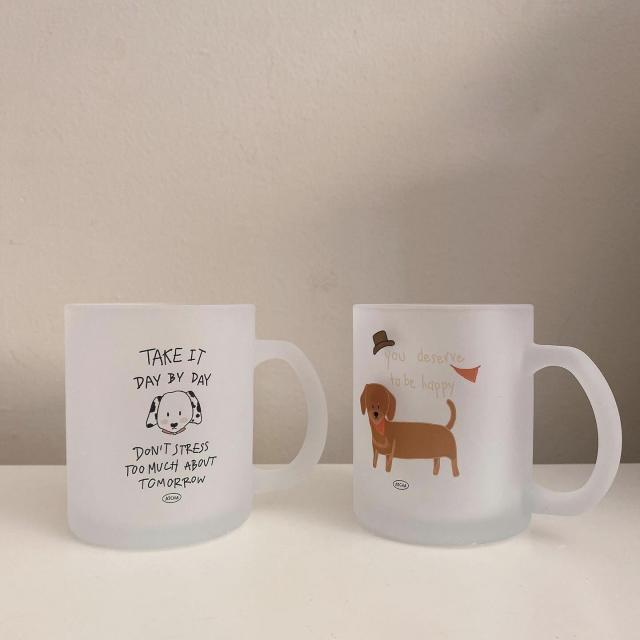glass-mug: (345, 296, 629, 554), (59, 299, 335, 555)
